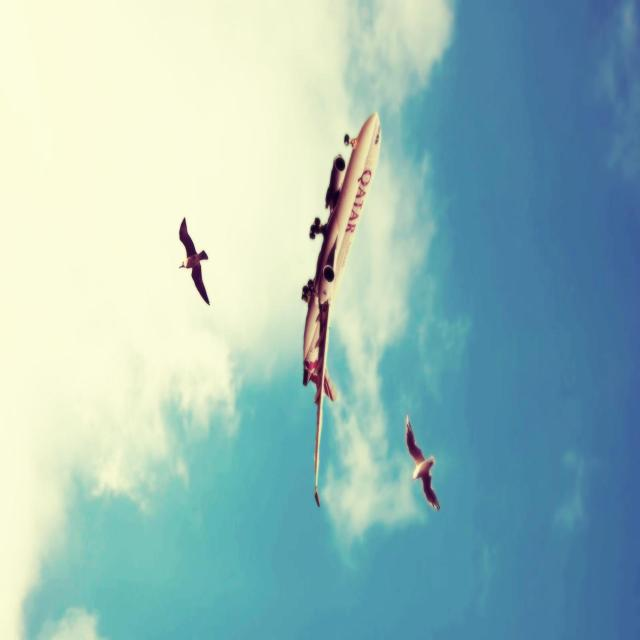airplane: (300, 110, 382, 507)
